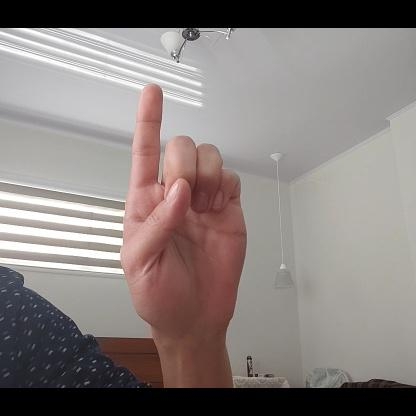D: (117, 82, 249, 332)
